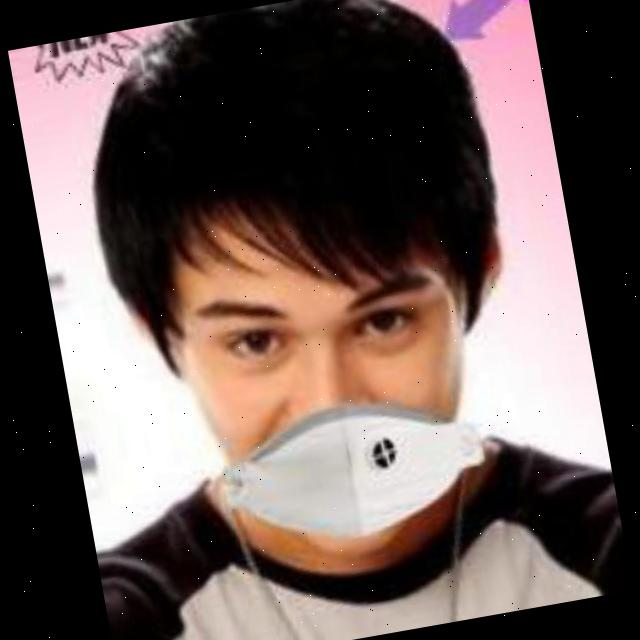suspicion: (136, 81, 526, 542)
